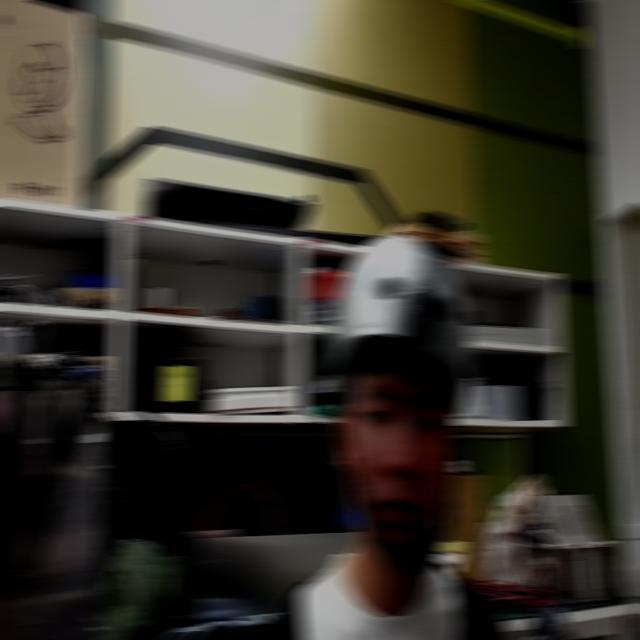With Helmet: (310, 175, 500, 599)
